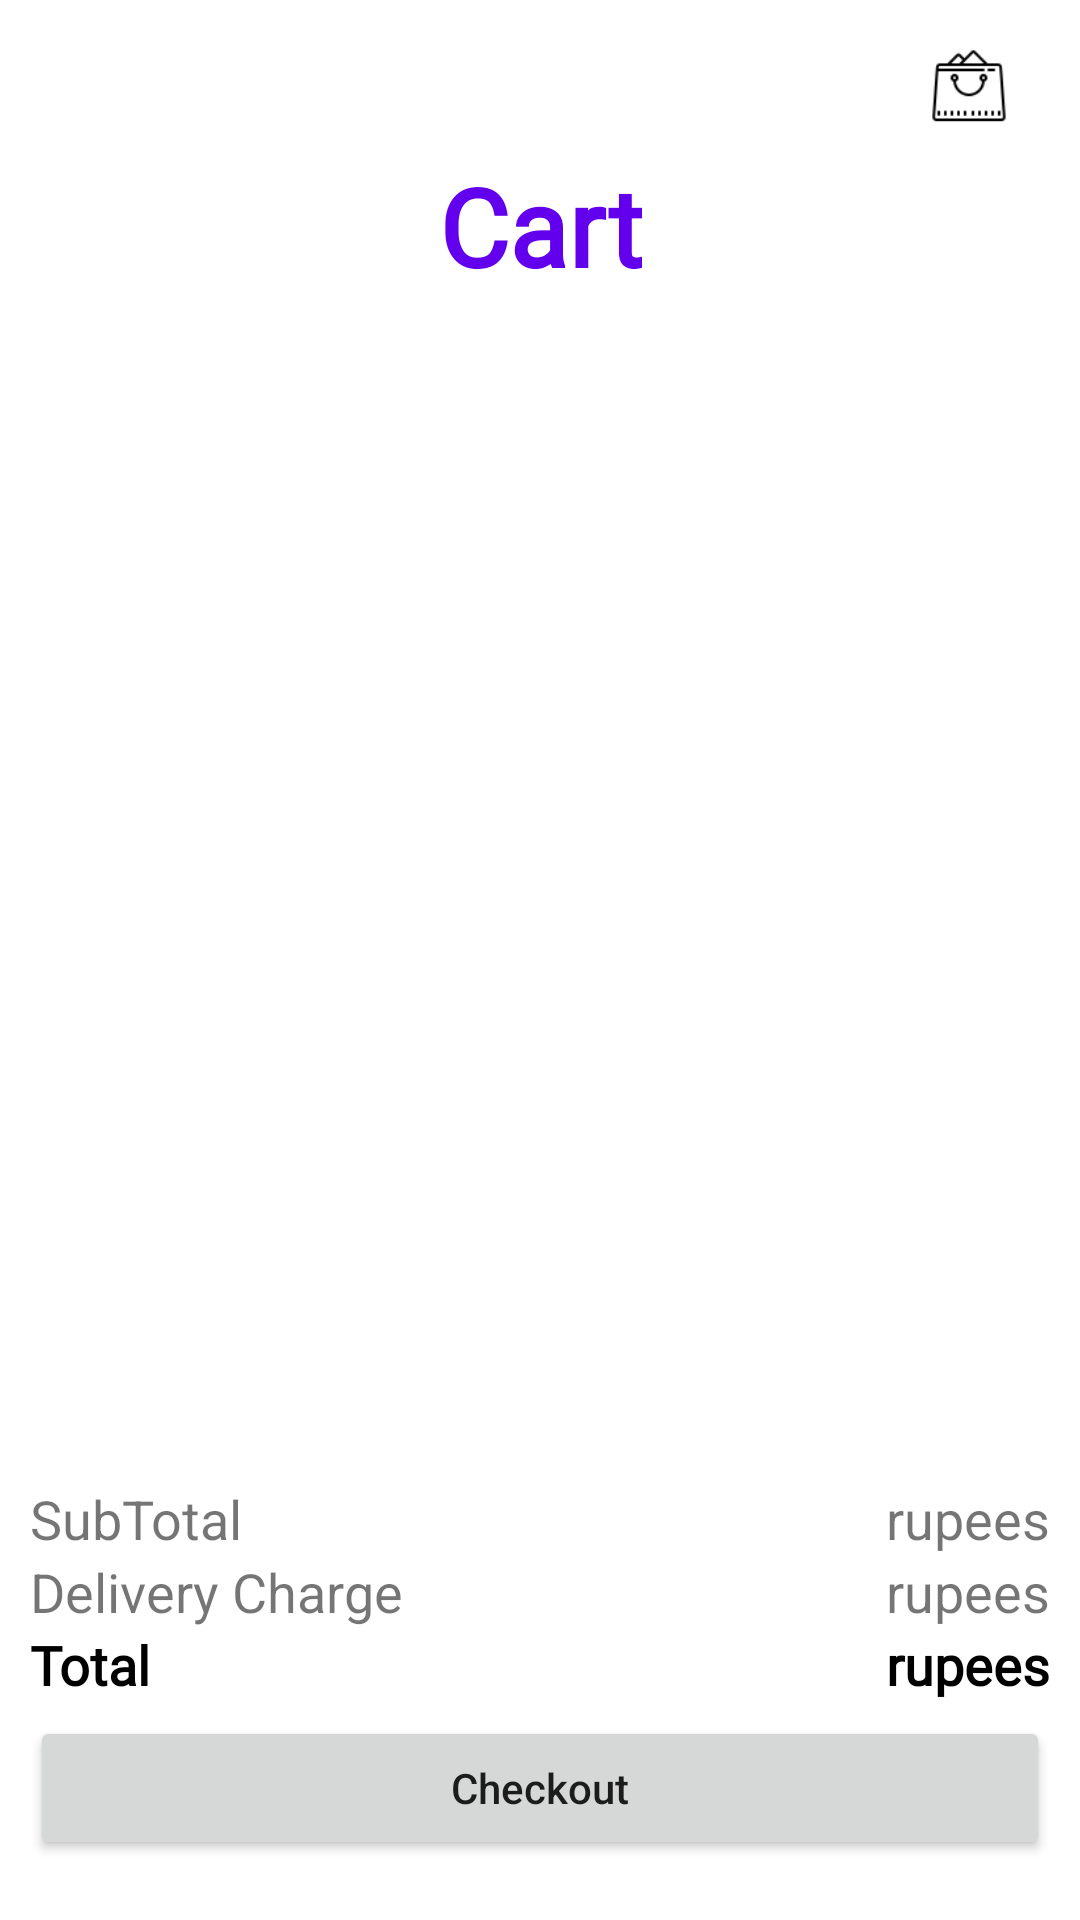

Named icons in this screenshot (1080w x 1920h) and their centers, (x,y):
cart: (969,86)
